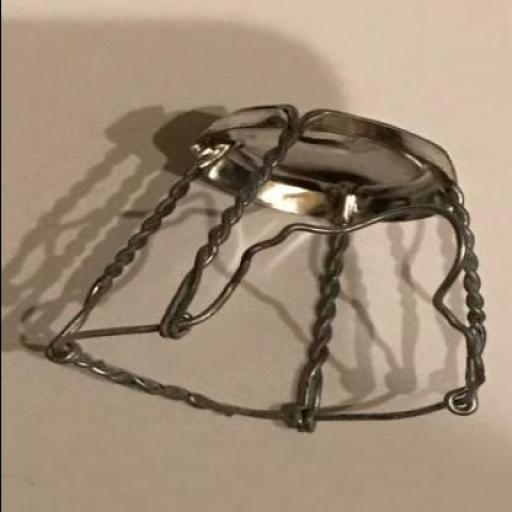metal: (46, 104, 486, 434)
